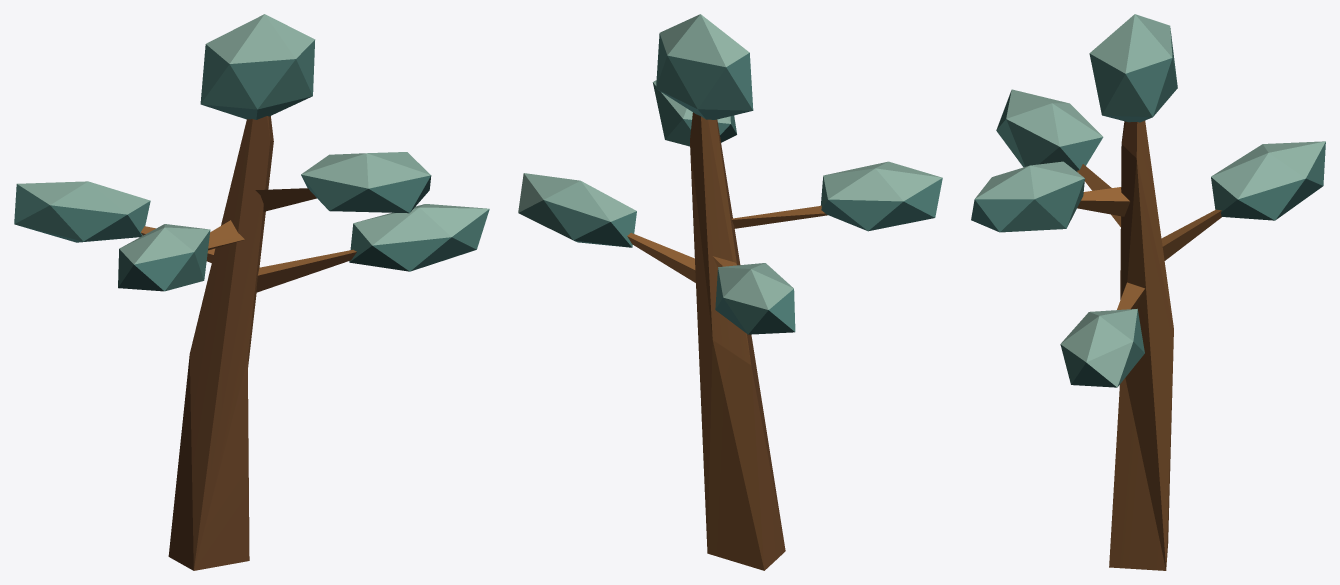
3 views of the same model, side by side, from view 1: azimuth 30°, elevation 25°; view 2: azimuth 150°, elevation 25°; view 3: azimuth 270°, elevation 25° (orthographic). The views are drawn at different scales.
Visible parts, largest first — view 1: WK_Tree_Pine_WindblownBlue_LOD2_Compact; view 2: WK_Tree_Pine_WindblownBlue_LOD2_Compact; view 3: WK_Tree_Pine_WindblownBlue_LOD2_Compact.
Boxes of the visible parts, x1=… form: WK_Tree_Pine_WindblownBlue_LOD2_Compact: x1=14, y1=14, x2=489, y2=570; WK_Tree_Pine_WindblownBlue_LOD2_Compact: x1=518, y1=14, x2=942, y2=570; WK_Tree_Pine_WindblownBlue_LOD2_Compact: x1=971, y1=14, x2=1325, y2=570.
Size of the model in its own units: 5.4 by 6.99 by 3.94.
